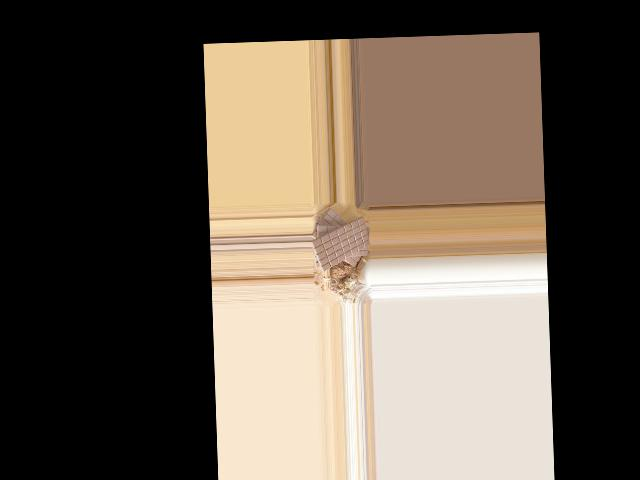chocolate: (311, 216, 368, 274)
